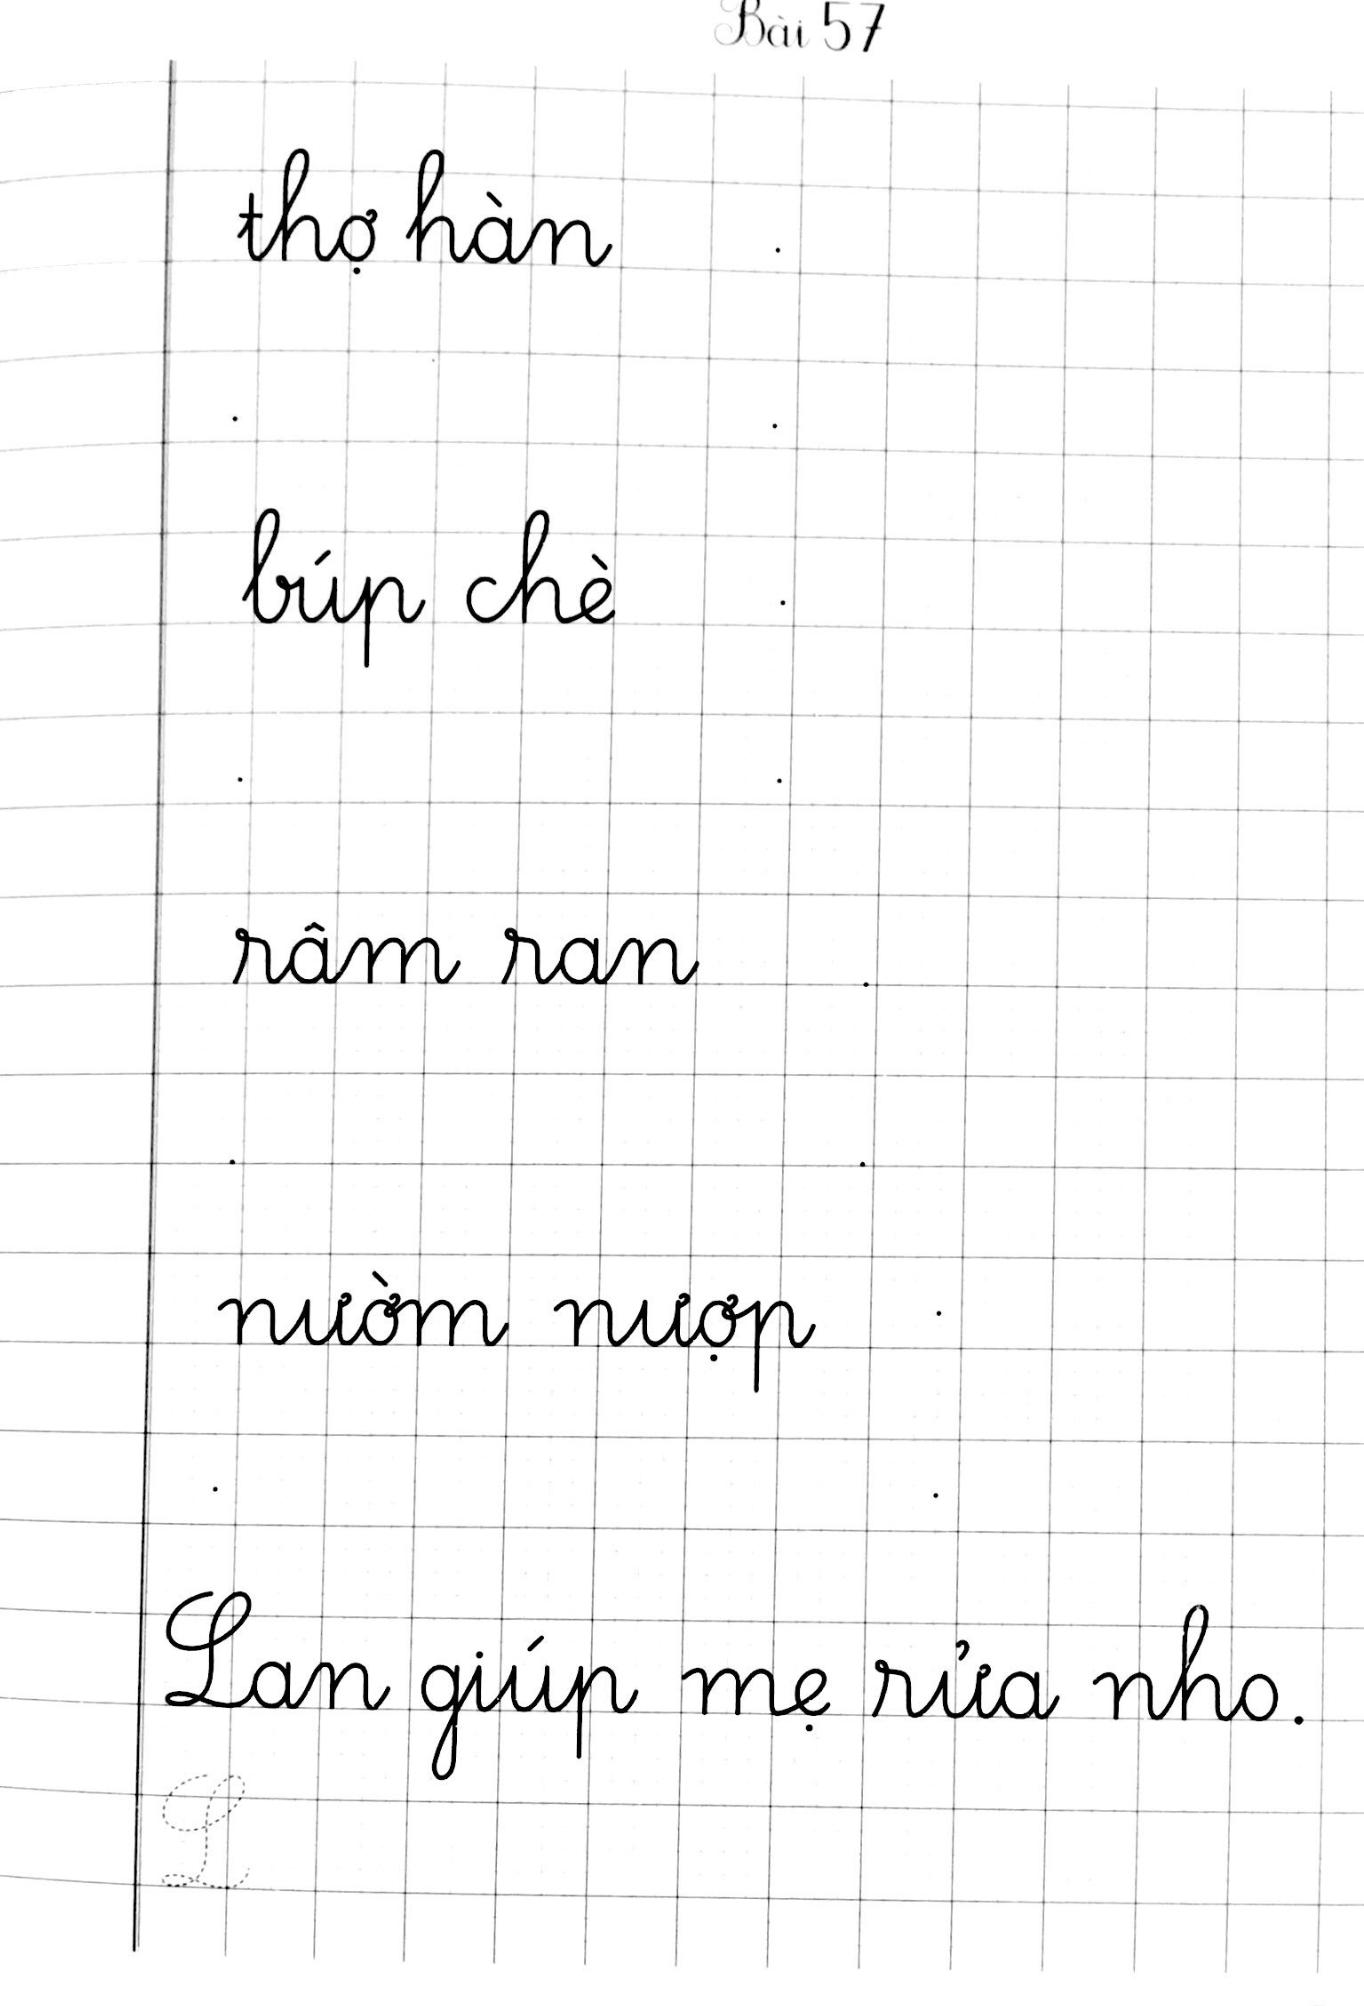text: (143, 1581, 1312, 1788), (215, 1262, 822, 1403), (228, 496, 626, 677), (228, 140, 623, 280), (222, 901, 705, 997), (152, 1773, 257, 1904), (706, 0, 898, 58), (1302, 1997, 1338, 2006)
